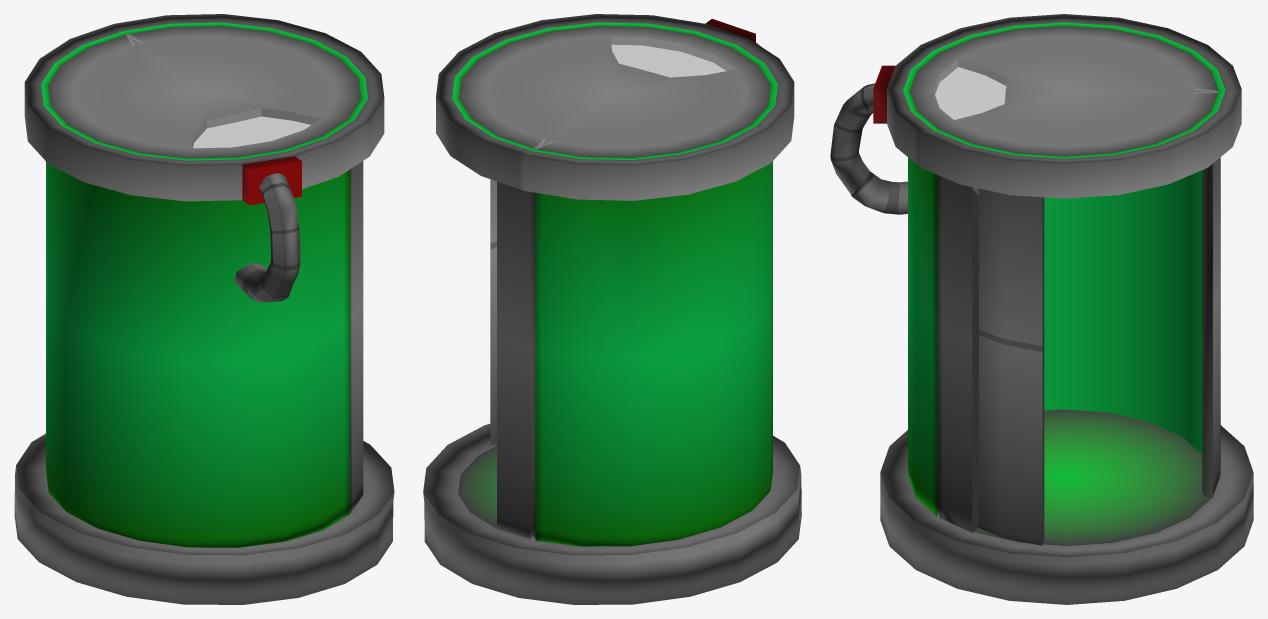
File: capsulef8.fbx
3 renders of one model, left to right at view 1: azimuth 30°, elevation 25°; view 2: azimuth 150°, elevation 25°; view 3: azimuth 270°, elevation 25°, orthographic.
Visible parts, largest first — view 1: polySurface167; view 2: polySurface167, pCylinder4; view 3: polySurface167, pCylinder4.
Part boxes in pixels (box(x1,y1,x2,y2)): polySurface167: box(14, 14, 394, 604); polySurface167: box(423, 14, 801, 604); pCylinder4: box(490, 179, 496, 445); polySurface167: box(830, 14, 1253, 604); pCylinder4: box(977, 188, 1044, 545).
Size of the model in its own units: 325 by 418 by 367.
